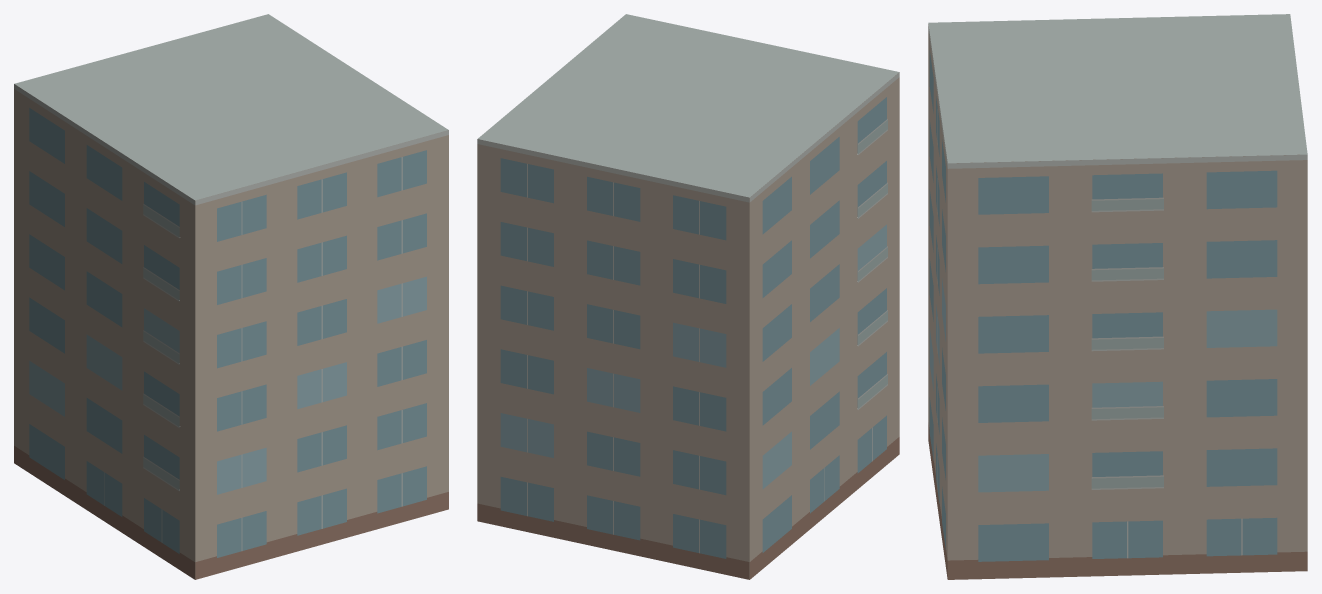
Rendered from survey-upis-32729150.glb.
3 views of the same model, side by side, from view 1: azimuth 30°, elevation 25°; view 2: azimuth 150°, elevation 25°; view 3: azimuth 270°, elevation 25° (orthographic). The views are drawn at different scales.
Parts seen in each view (by area): view 1: survey-upis-32729150.tmp; view 2: survey-upis-32729150.tmp; view 3: survey-upis-32729150.tmp.
Boxes of the visible parts, x1,y1,x2,y2 form: survey-upis-32729150.tmp: (14, 14, 448, 579); survey-upis-32729150.tmp: (477, 14, 899, 579); survey-upis-32729150.tmp: (928, 14, 1307, 579).
Size of the model in its own units: 14.23 by 18.5 by 15.28.
